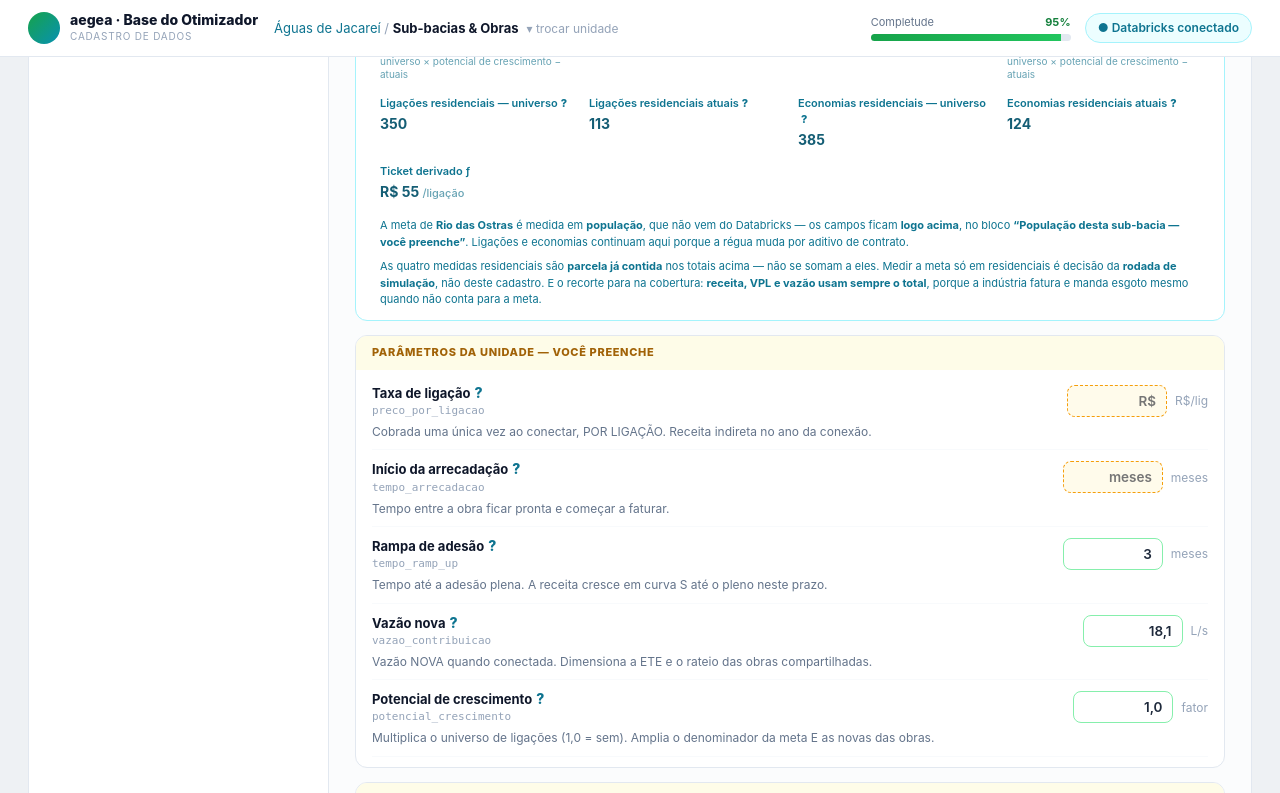
Test case: guarda de saída › confirmar sai da unidade
The image size is (1280, 793).
(page scrolled)
Type "5" into the field labelled "Taxa de ligação".
click(1117, 401); type("5")  # box [1067,385,1167,417]
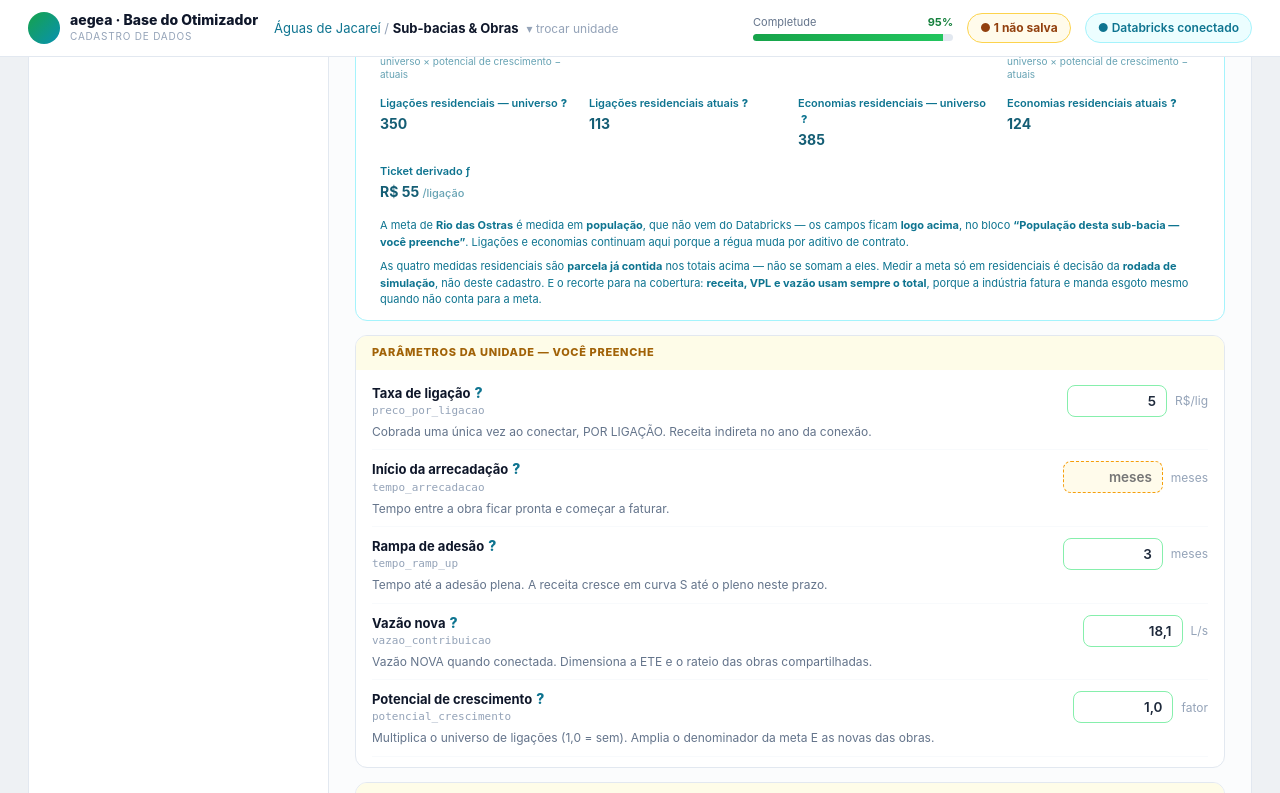
Click the button "▾ trocar unidade".
click(572, 28)  # box [526,21,618,36]
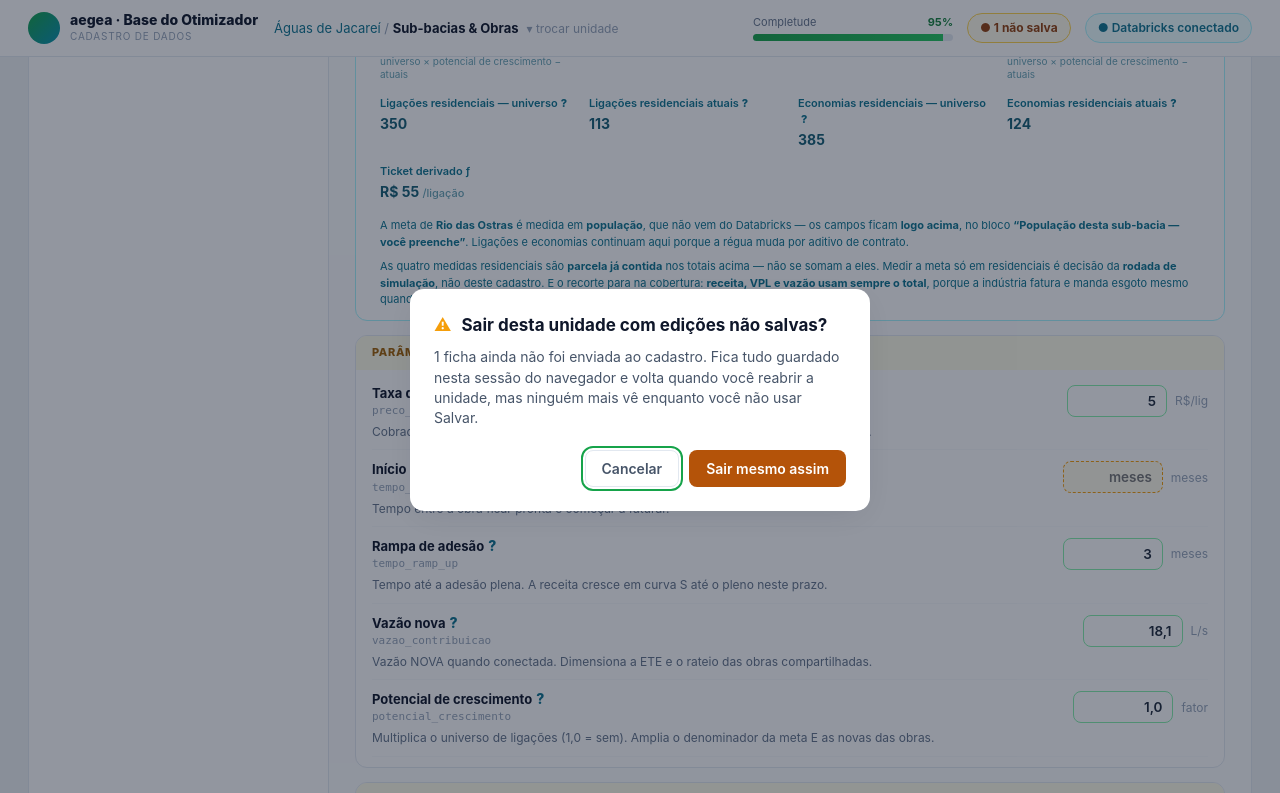
Click the button "Sair mesmo assim".
click(768, 469)  # box [689,450,846,487]
(page scrolled)
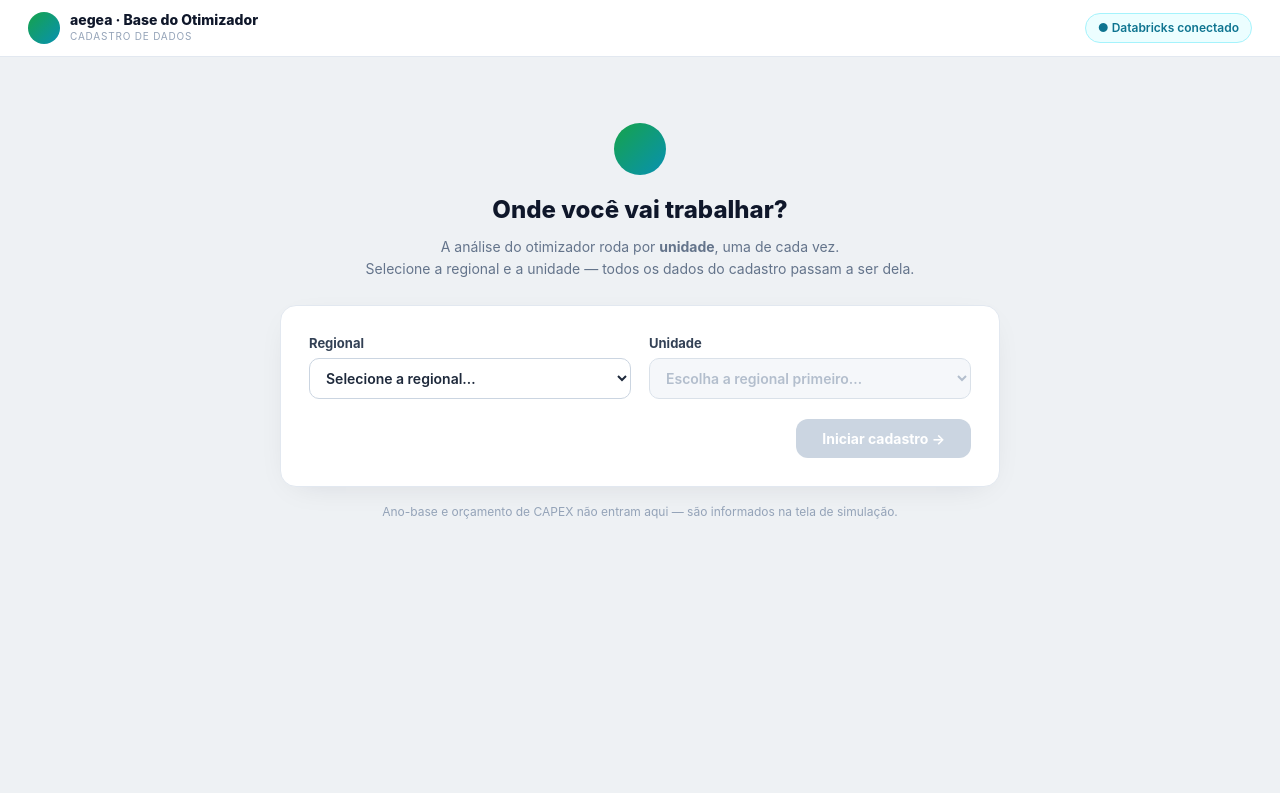
expect the heading "Onde você vai trabalhar?" is shown: met, box [492,195,788,224]
